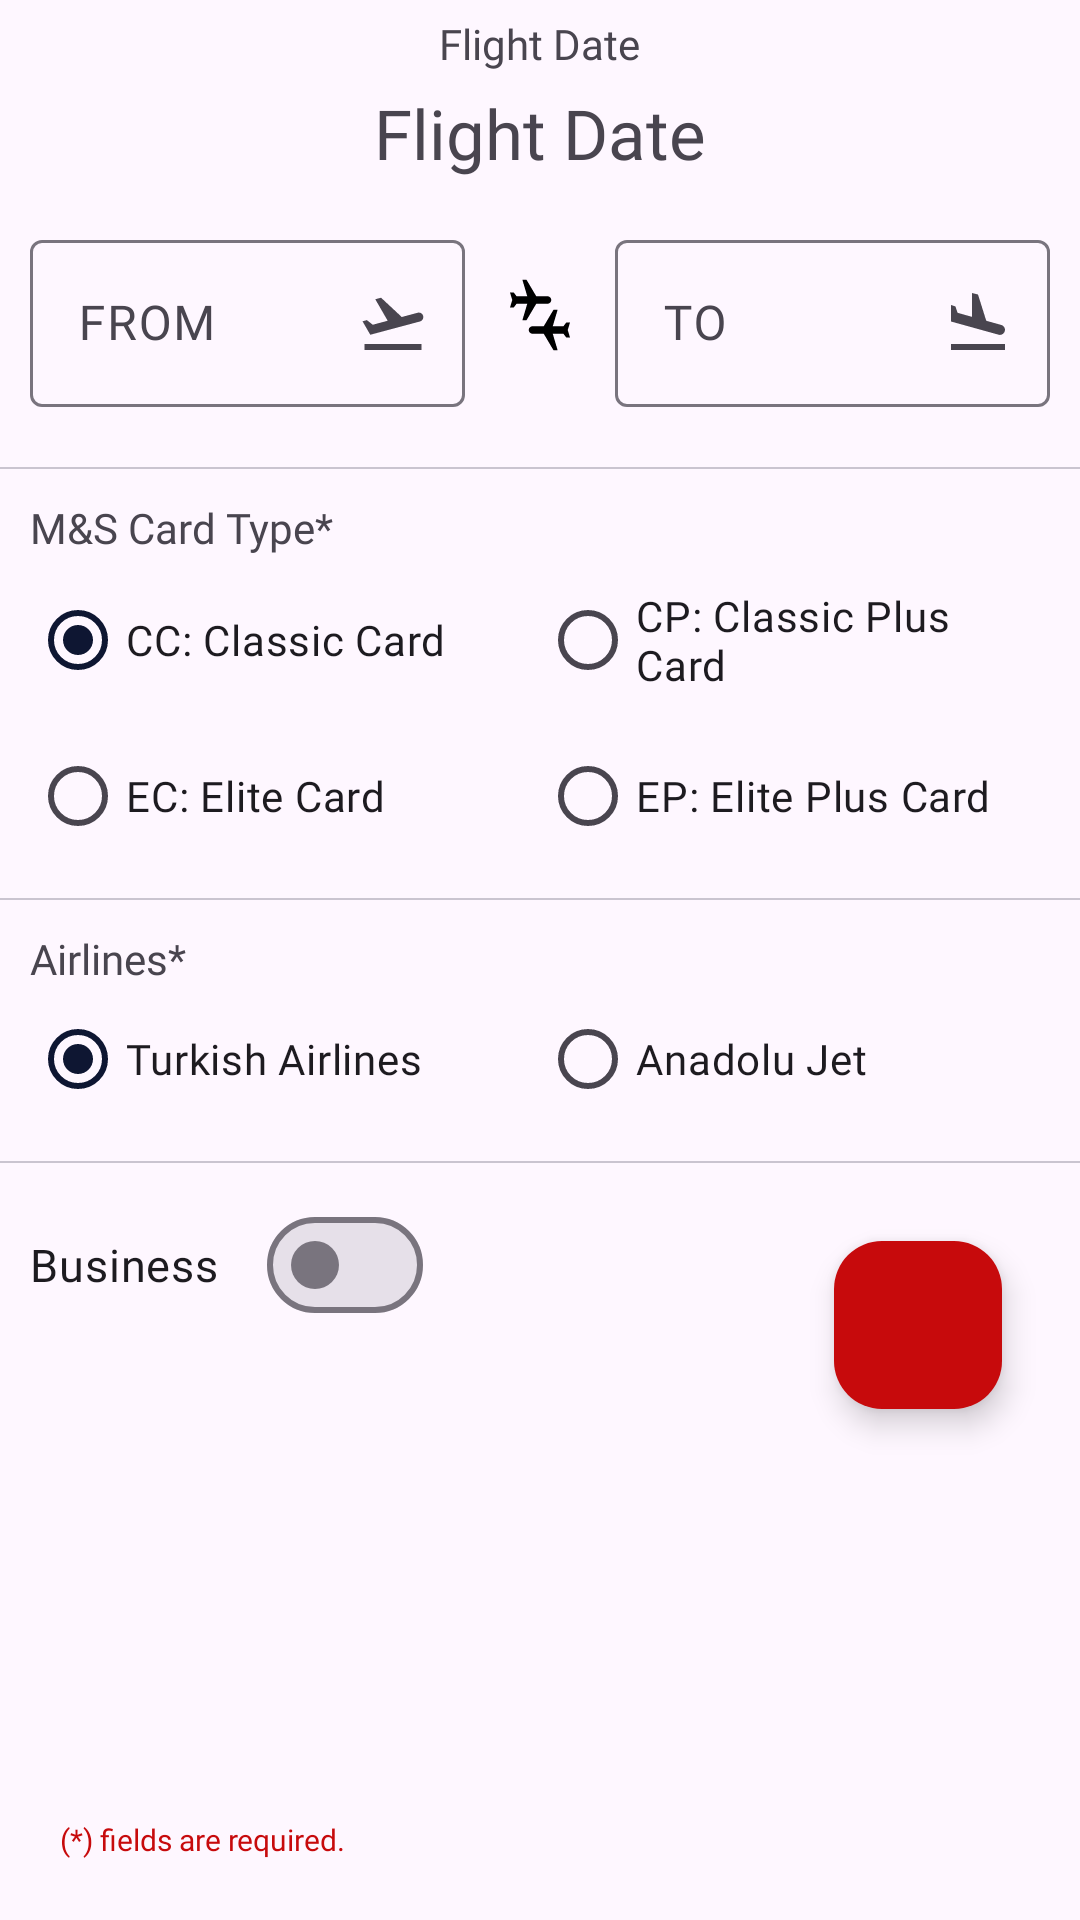

Where to tap for icons on this 1080px x 1920px app screen, as [x,y]:
connect airport: [540,315]
